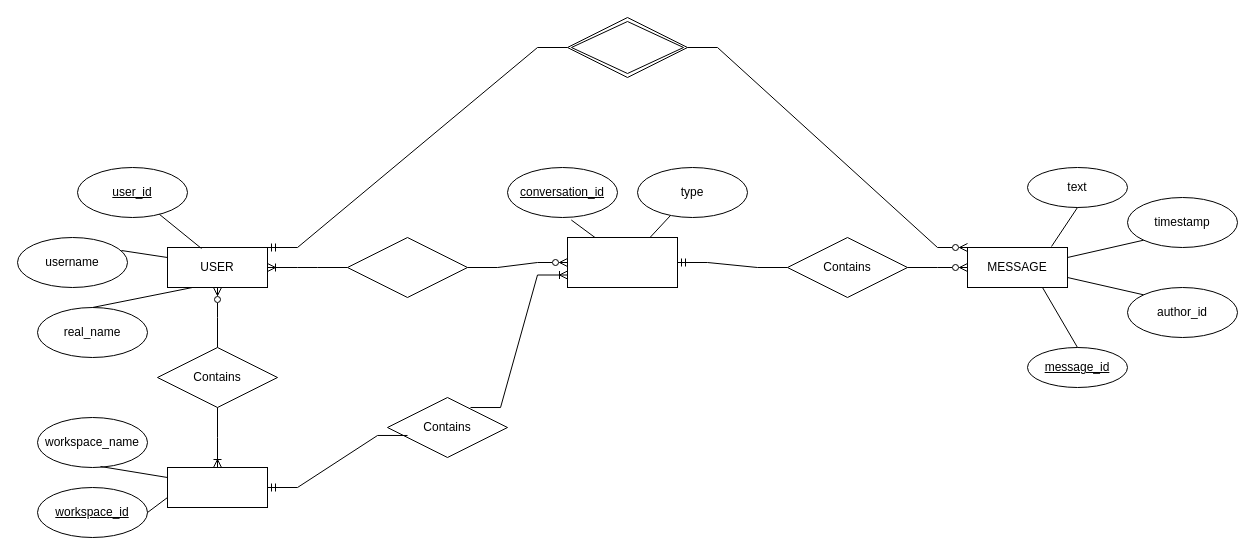
This 1255x555 diagram has some shape labels left out. Each missing label, with the box of its shape:
BelongsTo: (346, 236, 468, 298)
CONVERSATION: (566, 236, 678, 288)
Sends: (566, 16, 688, 78)
WORKSPACE: (166, 466, 268, 508)
